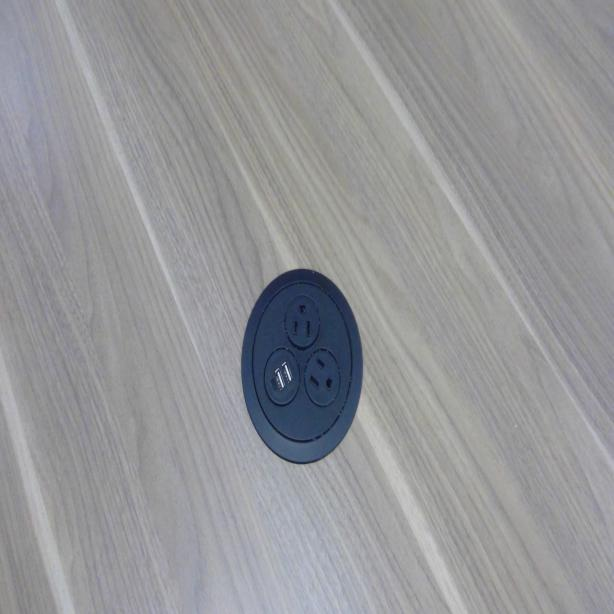typeb: (306, 348, 337, 398), (289, 296, 317, 344)
